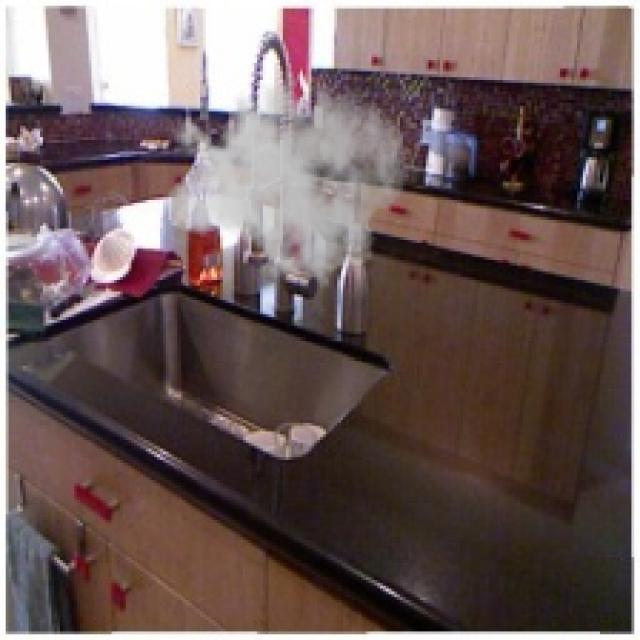smoke: (163, 57, 408, 294)
